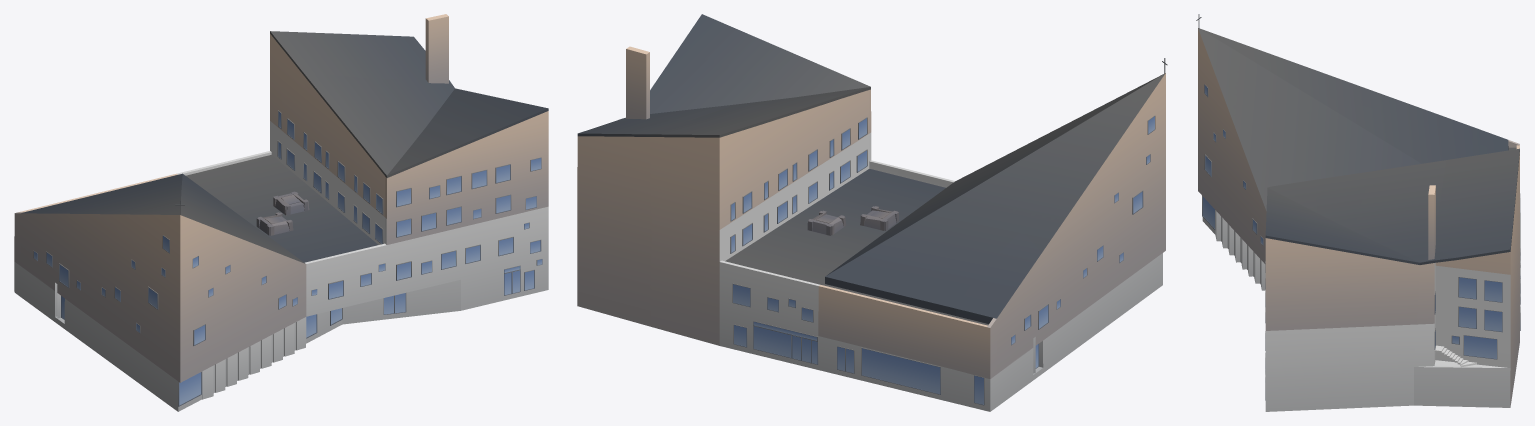
Rendered from tikkurilan_kirkko.fbx.
3 renders of one model, left to right at view 1: azimuth 30°, elevation 25°; view 2: azimuth 150°, elevation 25°; view 3: azimuth 270°, elevation 25°, orthographic. The views are drawn at different scales.
Visible parts, largest first — view 1: tikkurilan_kirkko; view 2: tikkurilan_kirkko; view 3: tikkurilan_kirkko.
Part boxes in pixels (left/top/right/bottom): tikkurilan_kirkko: left=14, top=14, right=548, bottom=411; tikkurilan_kirkko: left=577, top=14, right=1167, bottom=411; tikkurilan_kirkko: left=1196, top=14, right=1520, bottom=411.
Size of the model in its own units: 147 by 74.6 by 104.
